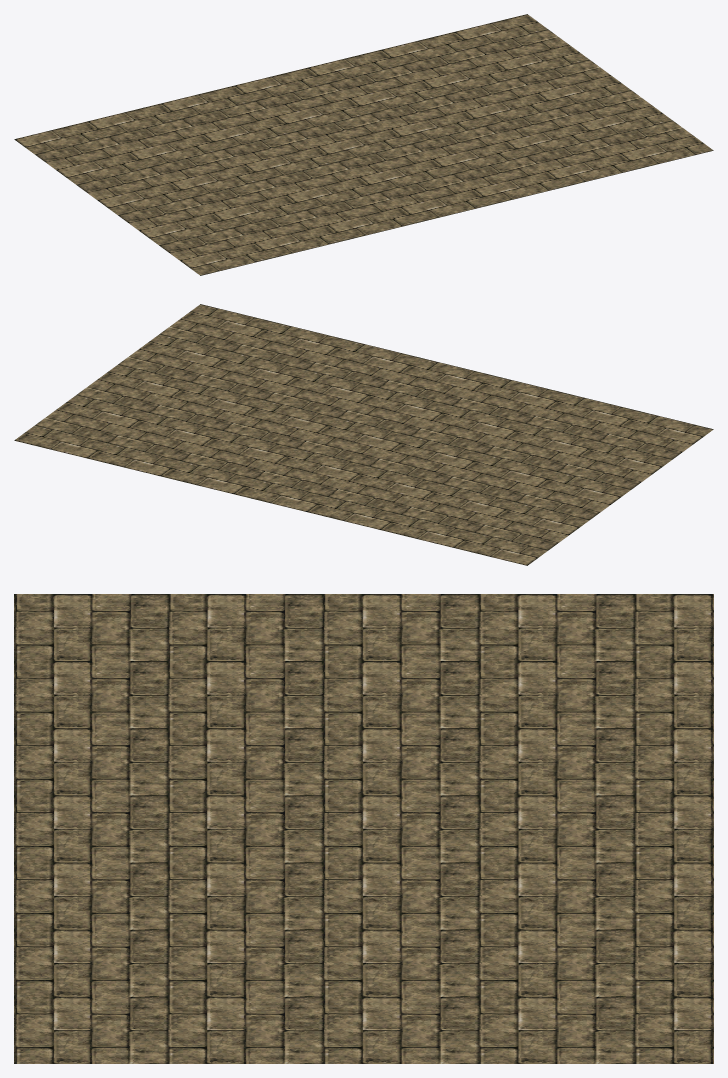
The model's file is OVERHILL_A_01_OBJECT112.fbx.
The picture shows the model from 3 angles, top to bottom: view 1: azimuth 30°, elevation 25°; view 2: azimuth 150°, elevation 25°; view 3: azimuth 270°, elevation 25°; orthographic projection. The views are drawn at different scales.
Visible parts, largest first — view 1: OVERHILL_A_01_OBJECT112; view 2: OVERHILL_A_01_OBJECT112; view 3: OVERHILL_A_01_OBJECT112.
Boxes of the visible parts, x1,y1,x2,y2 form: OVERHILL_A_01_OBJECT112: (14, 14, 713, 275); OVERHILL_A_01_OBJECT112: (14, 304, 713, 565); OVERHILL_A_01_OBJECT112: (14, 594, 713, 1063).
Bounding box in the file's own units: 233927 × 0.0972 × 147275.
Materials: 1 (1 with a texture image).
